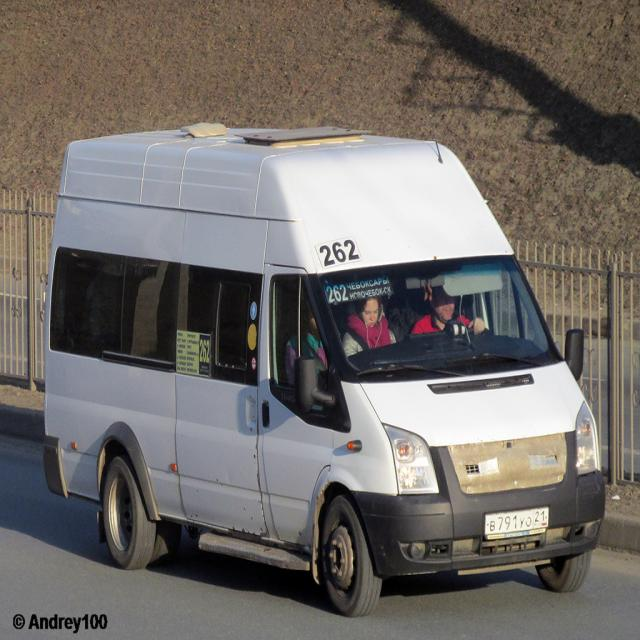number-of-bus: (316, 237, 364, 268), (324, 286, 350, 308)
